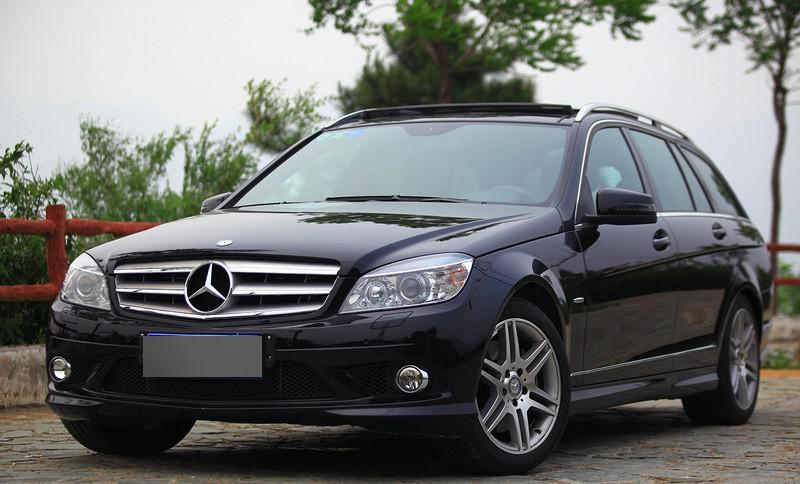Wagon: (43, 99, 776, 475)
